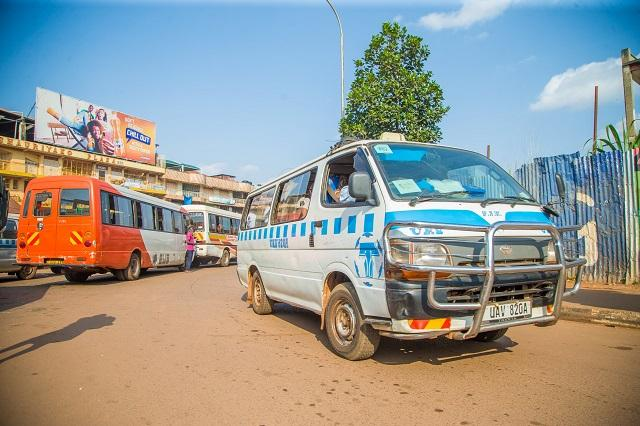bus: (18, 173, 191, 287), (176, 203, 240, 266)
van: (235, 130, 585, 360)
